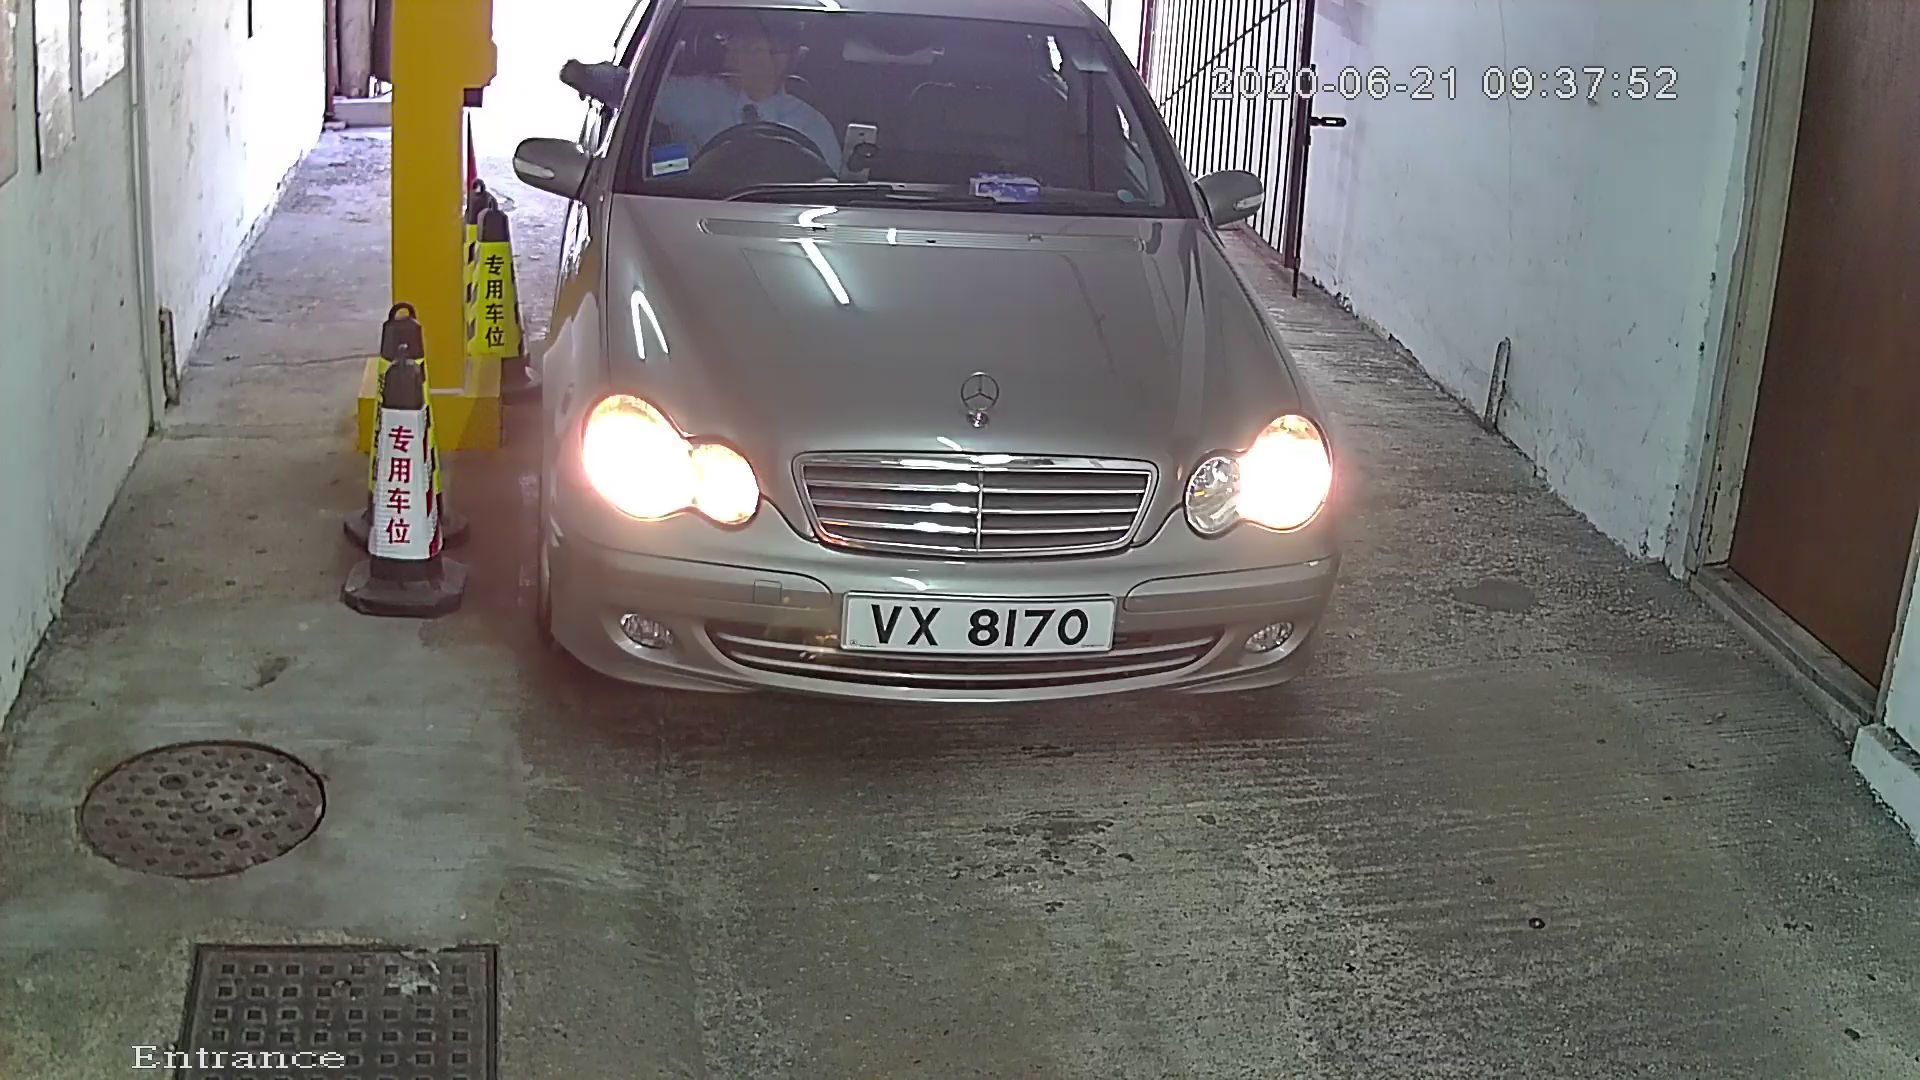privatecar: (506, 3, 1366, 769)
